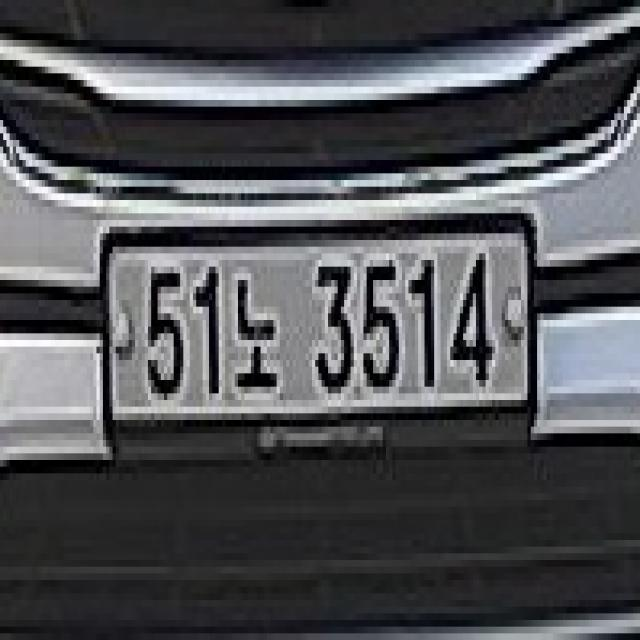1: (408, 252, 448, 394), (194, 256, 223, 407)
3: (308, 254, 357, 396)
4: (450, 247, 500, 394)
5: (140, 262, 187, 410), (362, 256, 402, 398)
license_plate: (99, 214, 542, 456)
no: (232, 268, 280, 399)
